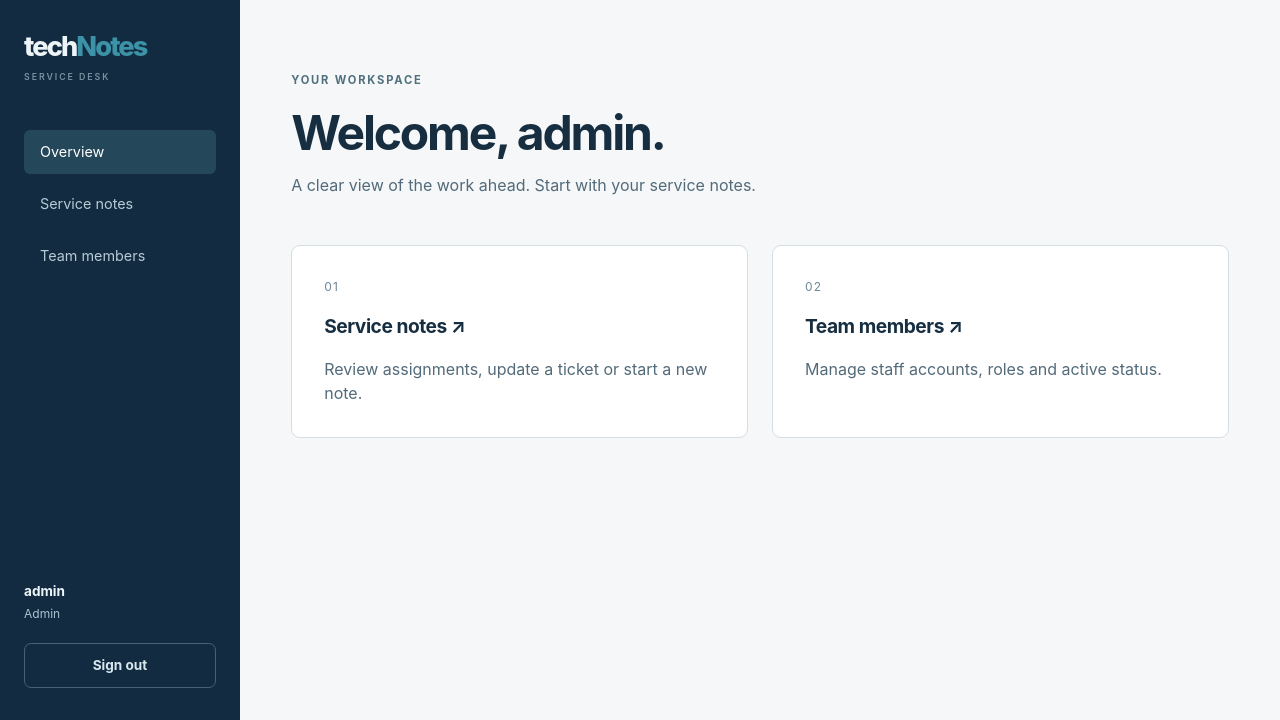
it: sign out clears authenticated pages
The image size is (1280, 720).
Click the button "Sign out" at (120, 666), box [24, 643, 216, 688]
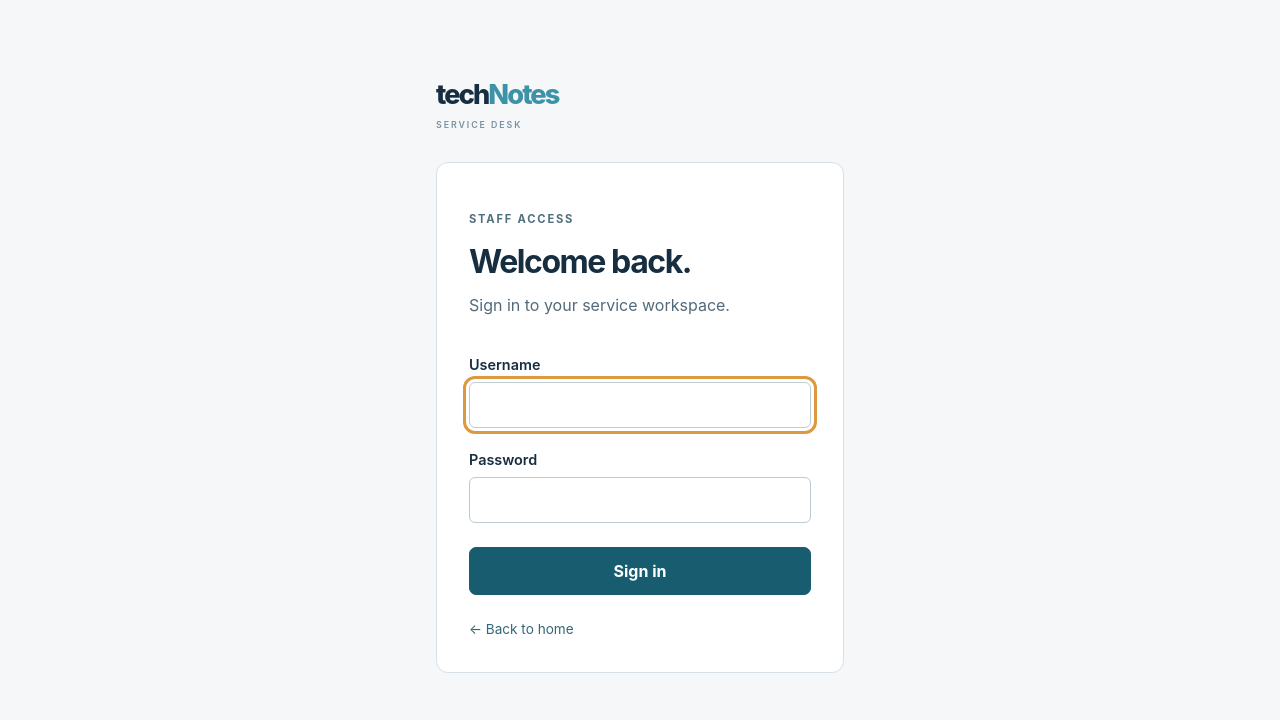
expect the heading "Welcome back." is shown: met, box [469, 242, 691, 281]
